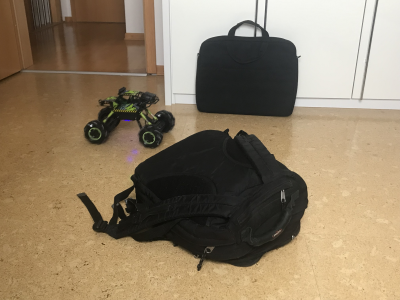remote control car: (82, 87, 176, 150)
